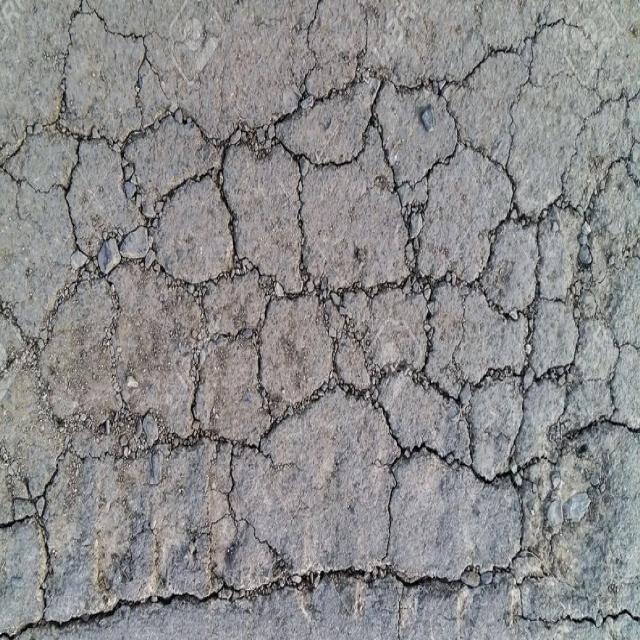Drain Hole: (78, 120, 640, 626)
